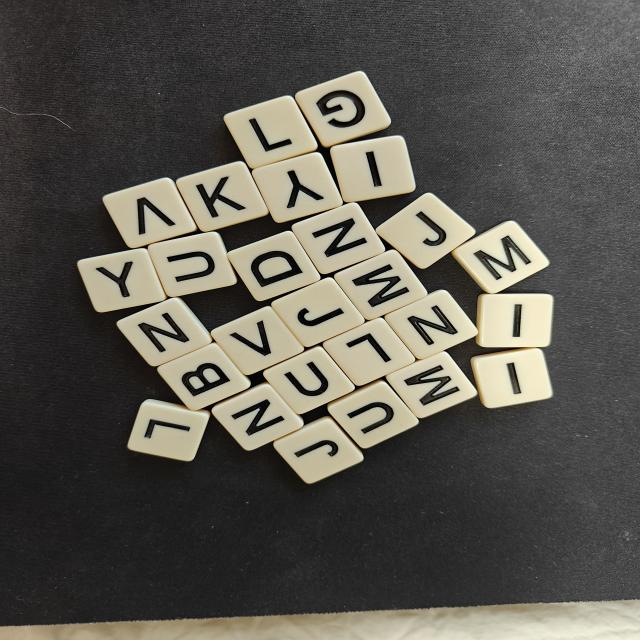b: (158, 343, 250, 410)
d: (228, 231, 320, 301)
g: (295, 71, 391, 147)
i: (331, 136, 415, 202), (470, 348, 553, 408), (476, 293, 554, 348)
j: (376, 193, 475, 269), (271, 278, 364, 347), (274, 416, 363, 483)
k: (176, 162, 269, 232)
l: (224, 96, 317, 169), (323, 318, 415, 386), (128, 399, 210, 461)
m: (452, 221, 549, 294), (334, 250, 427, 320), (386, 352, 477, 418)
n: (384, 290, 478, 360), (292, 203, 385, 273), (117, 298, 212, 366), (212, 382, 304, 450)
u: (328, 380, 419, 448), (264, 346, 354, 414), (148, 232, 237, 297)
v: (103, 178, 198, 248), (211, 306, 304, 375)
y: (252, 152, 342, 222), (77, 248, 167, 312)
